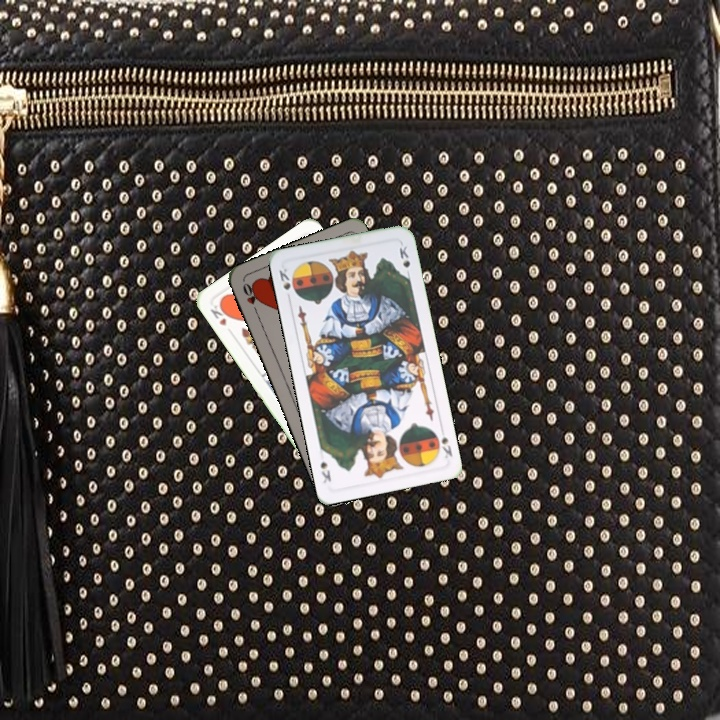HK: (206, 298, 233, 329)
HO: (239, 279, 262, 317)
SK: (430, 423, 455, 461), (275, 264, 293, 293)
